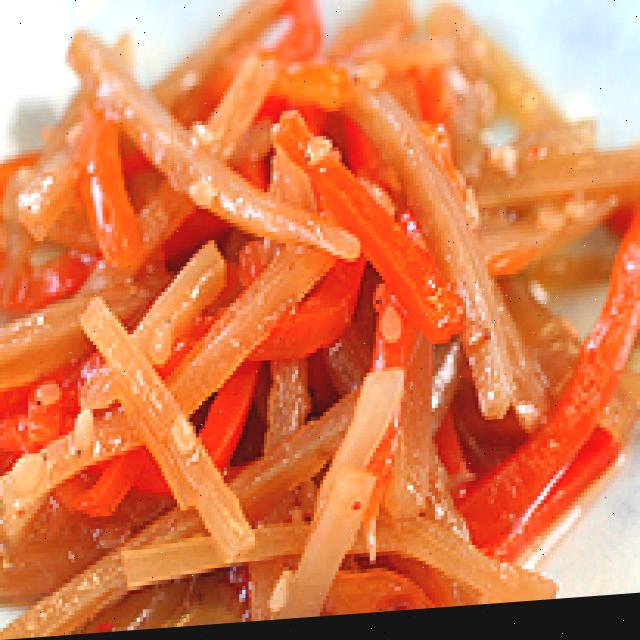蔬菜料理: (1, 0, 630, 640)
